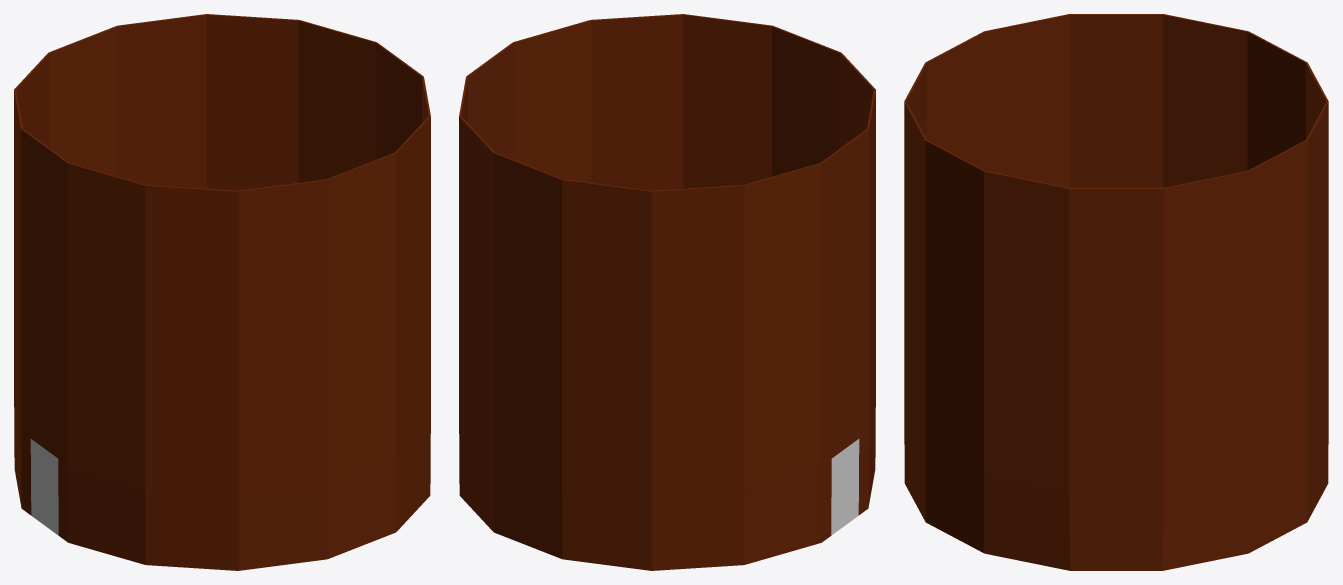
File: interior_casa_link (2).fbx
3 renders of one model, left to right at view 1: azimuth 30°, elevation 25°; view 2: azimuth 150°, elevation 25°; view 3: azimuth 270°, elevation 25°, orthographic.
Visible parts, largest first — view 1: Cylinder; view 2: Cylinder; view 3: Cylinder.
Boxes of the visible parts, x1,y1,x2,y2 form: Cylinder: (14,14,430,570); Cylinder: (459,14,875,570); Cylinder: (904,14,1328,570).
Bounding box in the file's own units: 197 × 203 × 202.
